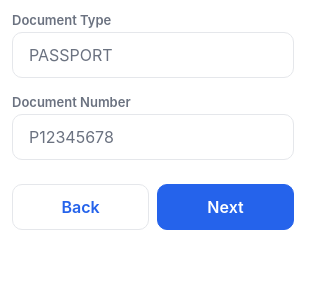
Test: DocumentStep › shows validation errors and does not advance when invalid
Type "X" into the field with placeholder "P12345678".
click(153, 137); type("X")  # box [12,114,294,160]
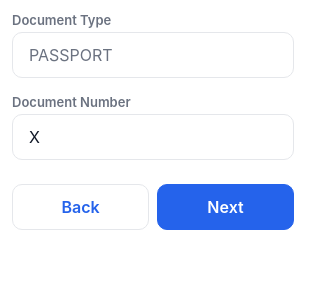
Click the button "Next".
click(226, 207)  # box [157,184,294,230]
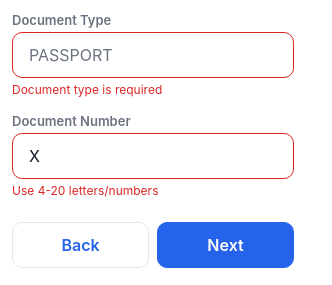
Check: the text "Document type is required" is shown, box [12,82,162,97]
Check: the text "Use 4-20 letters/numbers" is shown, box [12,183,158,198]
